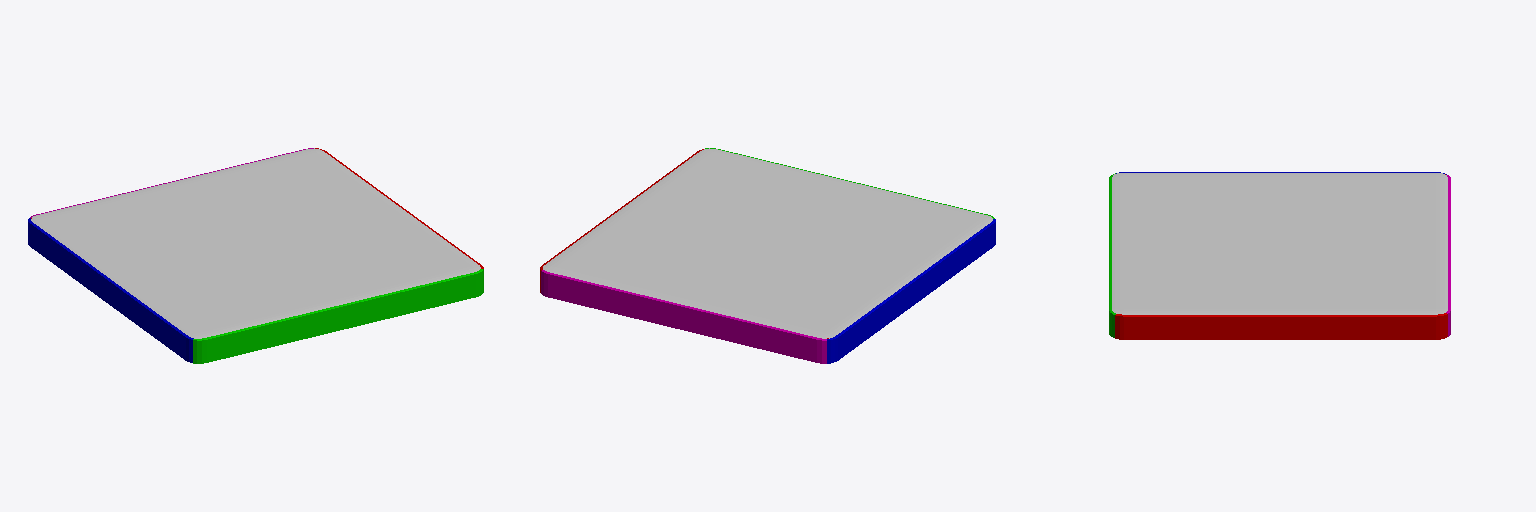
File: ref_cube.obj
3 renders of one model, left to right at view 1: azimuth 30°, elevation 25°; view 2: azimuth 150°, elevation 25°; view 3: azimuth 270°, elevation 25°, orthographic.
Parts seen in each view (by area): view 1: Cube; view 2: Cube; view 3: Cube.
Boxes of the visible parts, <box> form: Cube: <box>28,148,483,363</box>; Cube: <box>540,148,995,363</box>; Cube: <box>1109,172,1450,339</box>.
Bounding box in the file's own units: 2 × 0.1655 × 2.